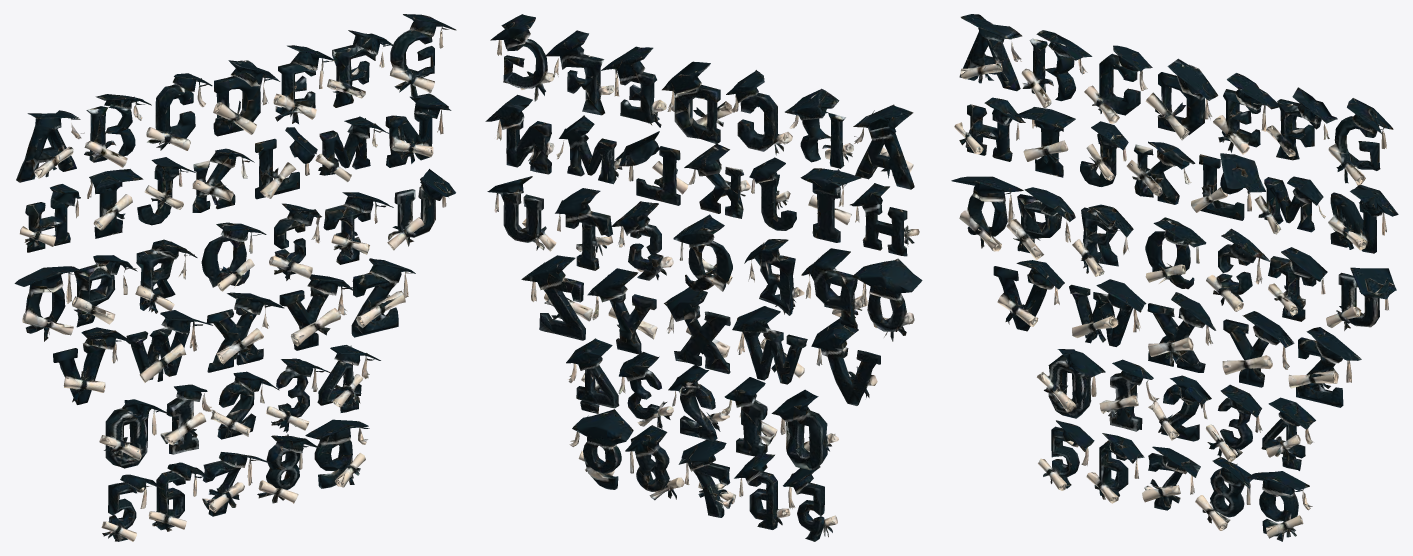
The picture shows the model from 3 angles, left to right: view 1: azimuth 30°, elevation 25°; view 2: azimuth 150°, elevation 25°; view 3: azimuth 330°, elevation 25°; orthographic projection. The views are drawn at different scales.
Parts seen in each view (by area): view 1: Mesh 21, Mesh 45, Mesh 10, Mesh 22, Mesh 48, Mesh 41, Mesh 7, Mesh 3, Mesh 37, Mesh 4, Mesh 49, Mesh 5 (+28 smaller); view 2: Mesh 45, Mesh 10, Mesh 21, Mesh 22, Mesh 49, Mesh 3, Mesh 7, Mesh 37, Mesh 48, Mesh 41, Mesh 4, Mesh 5 (+28 smaller); view 3: Mesh 10, Mesh 22, Mesh 21, Mesh 45, Mesh 48, Mesh 41, Mesh 3, Mesh 7, Mesh 46, Mesh 5, Mesh 47, Mesh 32 (+28 smaller).
Boxes of the visible parts, bbox=[...] form: Mesh 21: bbox=[206, 292, 284, 372]; Mesh 45: bbox=[351, 258, 415, 337]; Mesh 10: bbox=[126, 310, 212, 382]; Mesh 22: bbox=[213, 60, 280, 136]; Mesh 48: bbox=[385, 93, 451, 167]; Mesh 41: bbox=[279, 274, 354, 350]; Mesh 7: bbox=[99, 399, 167, 468]; Mesh 3: bbox=[16, 110, 84, 182]; Mesh 37: bbox=[305, 419, 369, 488]; Mesh 4: bbox=[53, 327, 131, 404]; Mesh 49: bbox=[14, 266, 79, 341]; Mesh 5: bbox=[84, 94, 151, 167]; Mesh 45: bbox=[521, 255, 592, 340]; Mesh 10: bbox=[732, 306, 807, 384]; Mesh 21: bbox=[664, 287, 730, 373]; Mesh 22: bbox=[662, 61, 732, 144]; Mesh 49: bbox=[852, 258, 922, 341]; Mesh 3: bbox=[853, 104, 914, 189]; Mesh 7: bbox=[771, 389, 838, 470]; Mesh 37: bbox=[569, 409, 633, 489]; Mesh 48: bbox=[485, 94, 554, 174]; Mesh 41: bbox=[587, 268, 657, 354]; Mesh 4: bbox=[811, 318, 880, 405]; Mesh 5: bbox=[785, 88, 853, 168]; Mesh 10: bbox=[1069, 279, 1146, 346]; Mesh 22: bbox=[1145, 58, 1218, 140]; Mesh 21: bbox=[1147, 292, 1216, 372]; Mesh 45: bbox=[1288, 327, 1361, 407]; Mesh 48: bbox=[1328, 185, 1398, 253]; Mesh 41: bbox=[1222, 311, 1294, 387]; Mesh 3: bbox=[959, 14, 1022, 91]; Mesh 7: bbox=[1037, 349, 1105, 418]; Mesh 46: bbox=[1326, 267, 1396, 330]; Mesh 5: bbox=[1021, 30, 1092, 107]; Mesh 47: bbox=[1328, 98, 1393, 185]; Mesh 32: bbox=[1213, 73, 1278, 154].
Size of the model in its own units: 1.9 by 1.9 by 0.1778.
43 materials, 43 textured.
